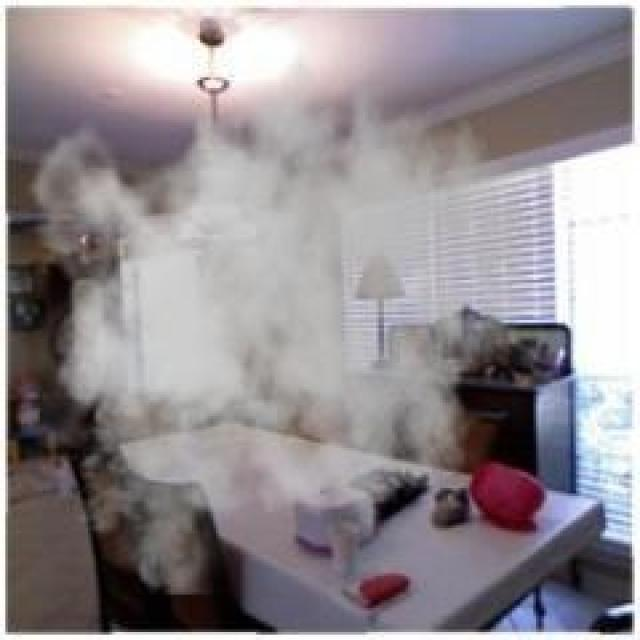smoke: (96, 177, 461, 516)
